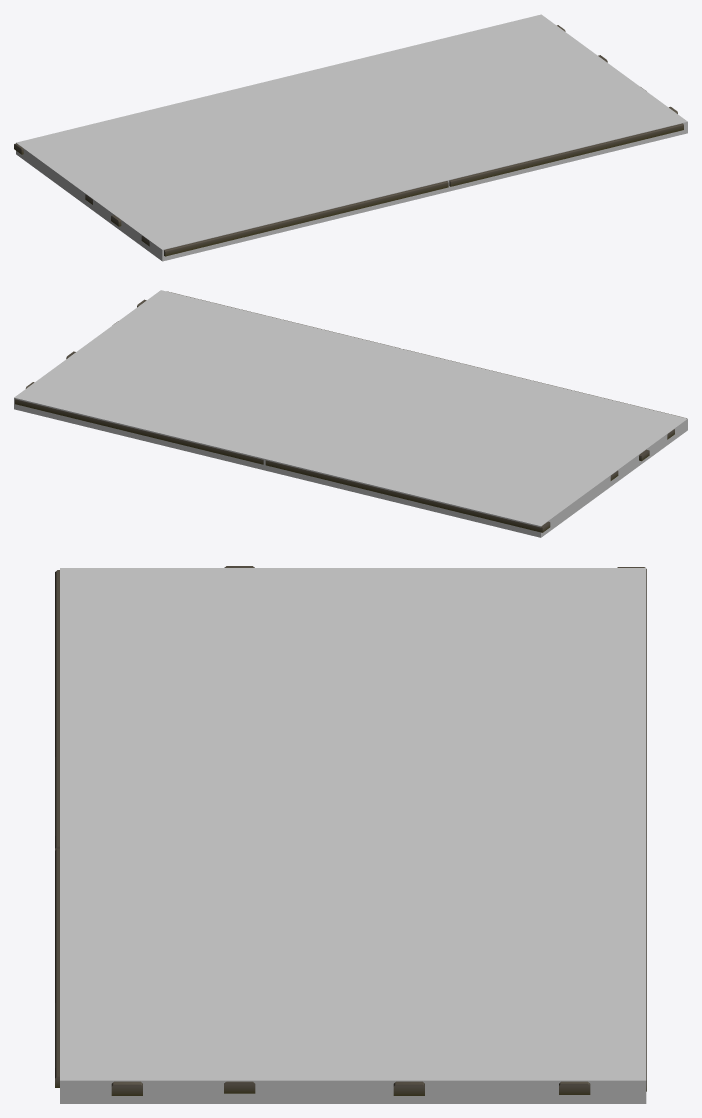
The model's file is eca_fv_boat_platform.DAE.
3 renders of one model, top to bottom at view 1: azimuth 30°, elevation 25°; view 2: azimuth 150°, elevation 25°; view 3: azimuth 270°, elevation 25°, orthographic. The views are drawn at different scales.
Parts seen in each view (by area): view 1: Colmesh-1, eca_fv_boat_platform150; view 2: Colmesh-1, eca_fv_boat_platform150; view 3: Colmesh-1, eca_fv_boat_platform150.
Part boxes in pixels (bbox=[...]): Colmesh-1: bbox=[16, 14, 687, 261]; eca_fv_boat_platform150: bbox=[14, 25, 683, 256]; Colmesh-1: bbox=[14, 290, 687, 537]; eca_fv_boat_platform150: bbox=[15, 291, 686, 532]; Colmesh-1: bbox=[60, 568, 646, 1103]; eca_fv_boat_platform150: bbox=[55, 566, 646, 1095].
Bounding box in the file's own units: 7.87 × 3.79 × 0.1645.
